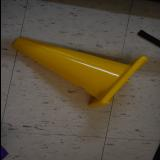cone: (10, 36, 148, 108)
cube: (0, 144, 9, 160)
